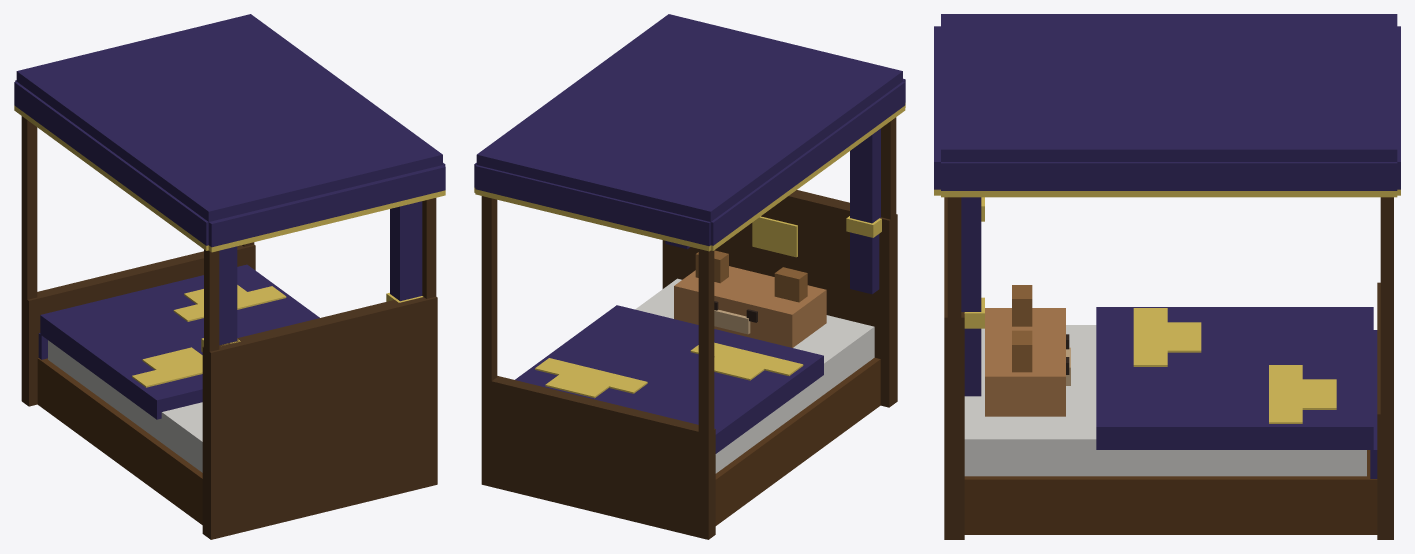
The model's file is ncb-bed-library.glb.
The picture shows the model from 3 angles, left to right: view 1: azimuth 30°, elevation 25°; view 2: azimuth 150°, elevation 25°; view 3: azimuth 270°, elevation 25°; orthographic projection. The views are drawn at different scales.
Visible parts, largest first — view 1: box-prop; view 2: box-prop; view 3: box-prop.
Boxes of the visible parts, <box> form: box-prop: <box>14,14,445,539</box>; box-prop: <box>474,14,905,539</box>; box-prop: <box>934,14,1400,539</box>.
Bounding box in the file's own units: 1.94 × 2.56 × 2.76.
